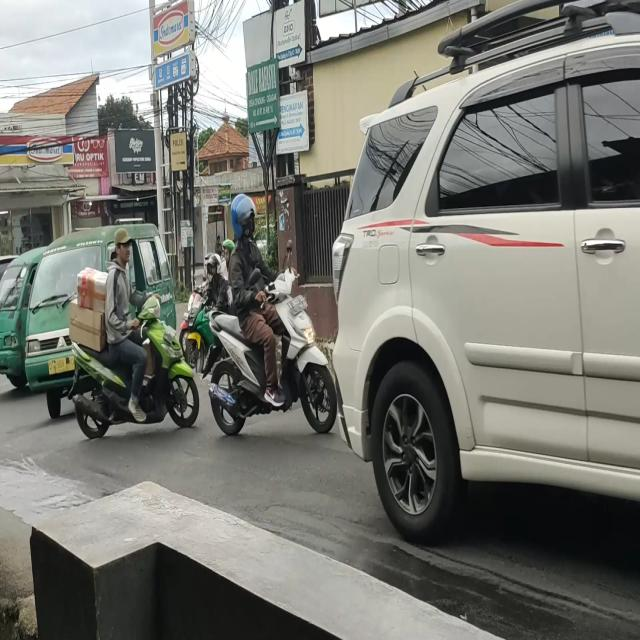helmet: (229, 194, 257, 242), (204, 257, 223, 279)
no-helmet: (111, 226, 132, 271)
